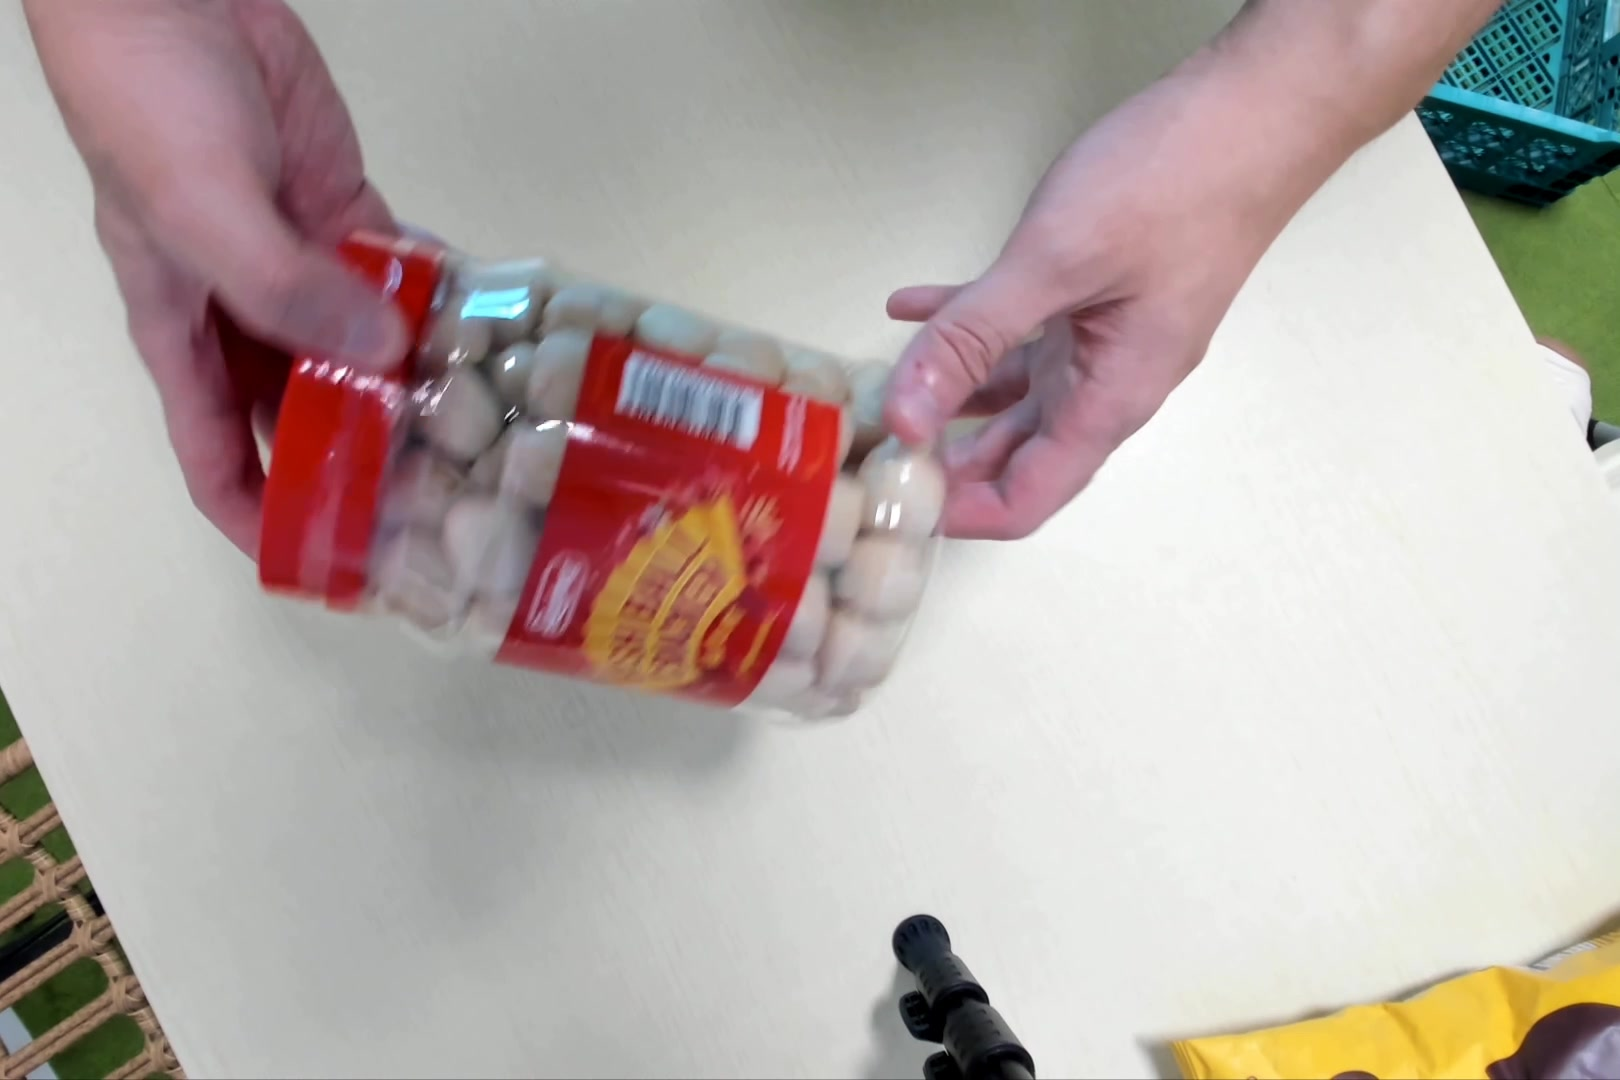PotatoChipsKeropok_100-199g_NonHalal_NonHealthy: (257, 225, 941, 724)
